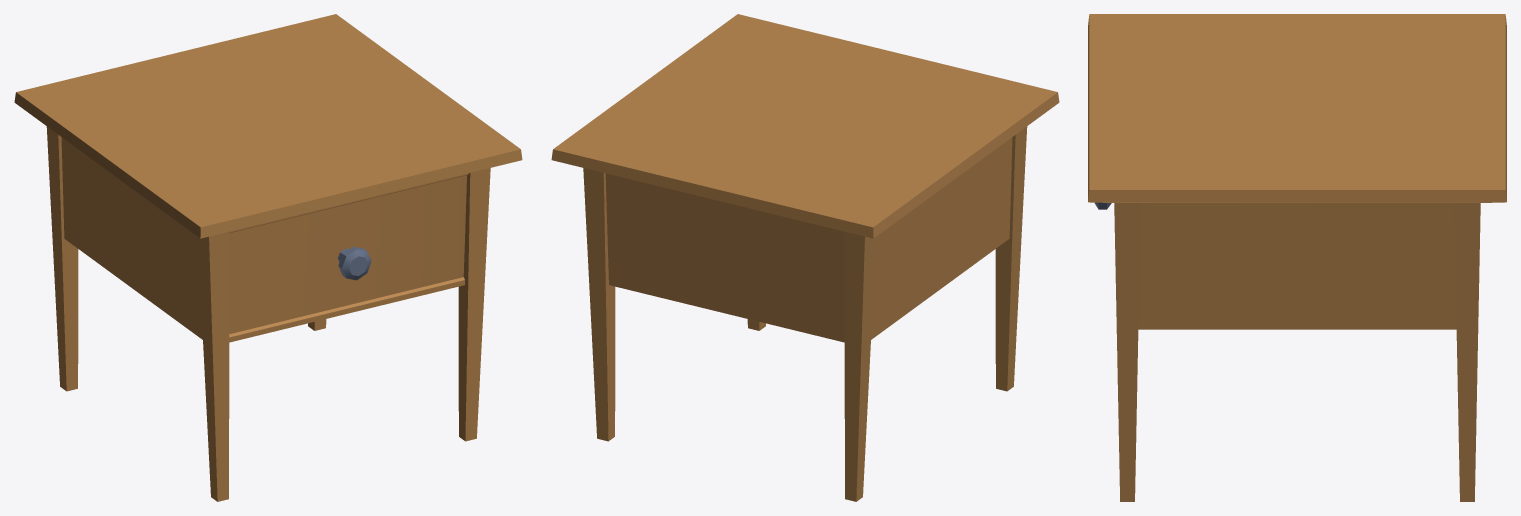
File: NightStand_1.glb
3 views of the same model, side by side, from view 1: azimuth 30°, elevation 25°; view 2: azimuth 150°, elevation 25°; view 3: azimuth 270°, elevation 25° (orthographic). The views are drawn at different scales.
Visible parts, largest first — view 1: NightStand_1; view 2: NightStand_1; view 3: NightStand_1.
Boxes of the visible parts, left/top/right/bottom form: NightStand_1: left=14, top=14, right=522, bottom=501; NightStand_1: left=551, top=14, right=1059, bottom=501; NightStand_1: left=1088, top=14, right=1506, bottom=501.
Size of the model in its own units: 0.9522 by 0.8249 by 0.9522.
